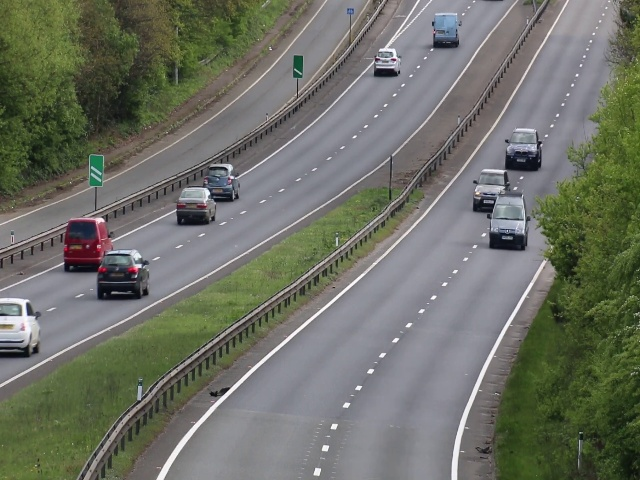car: (62, 216, 115, 272), (94, 251, 151, 299), (1, 298, 46, 356), (491, 195, 528, 248), (504, 126, 543, 172), (201, 161, 243, 203), (175, 186, 221, 224), (472, 167, 512, 210), (432, 11, 462, 47), (372, 46, 401, 78)
